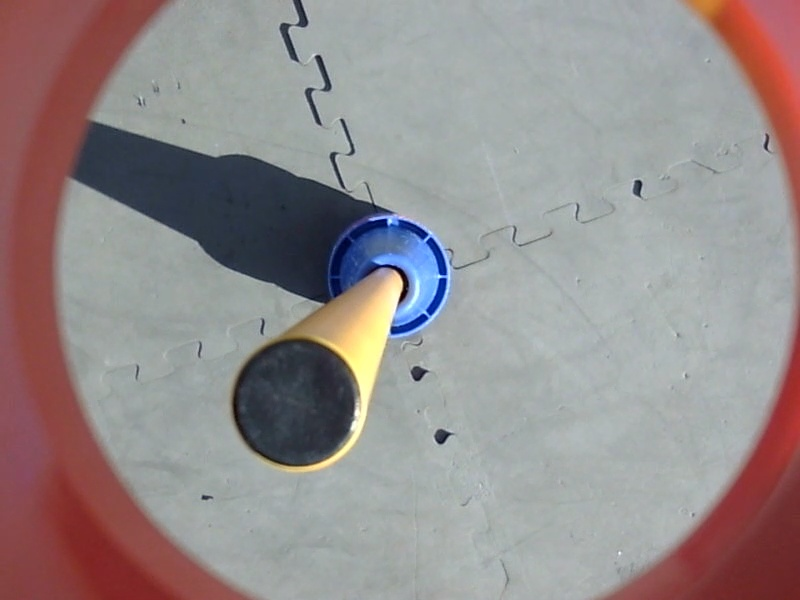tip: (226, 329, 371, 477)
